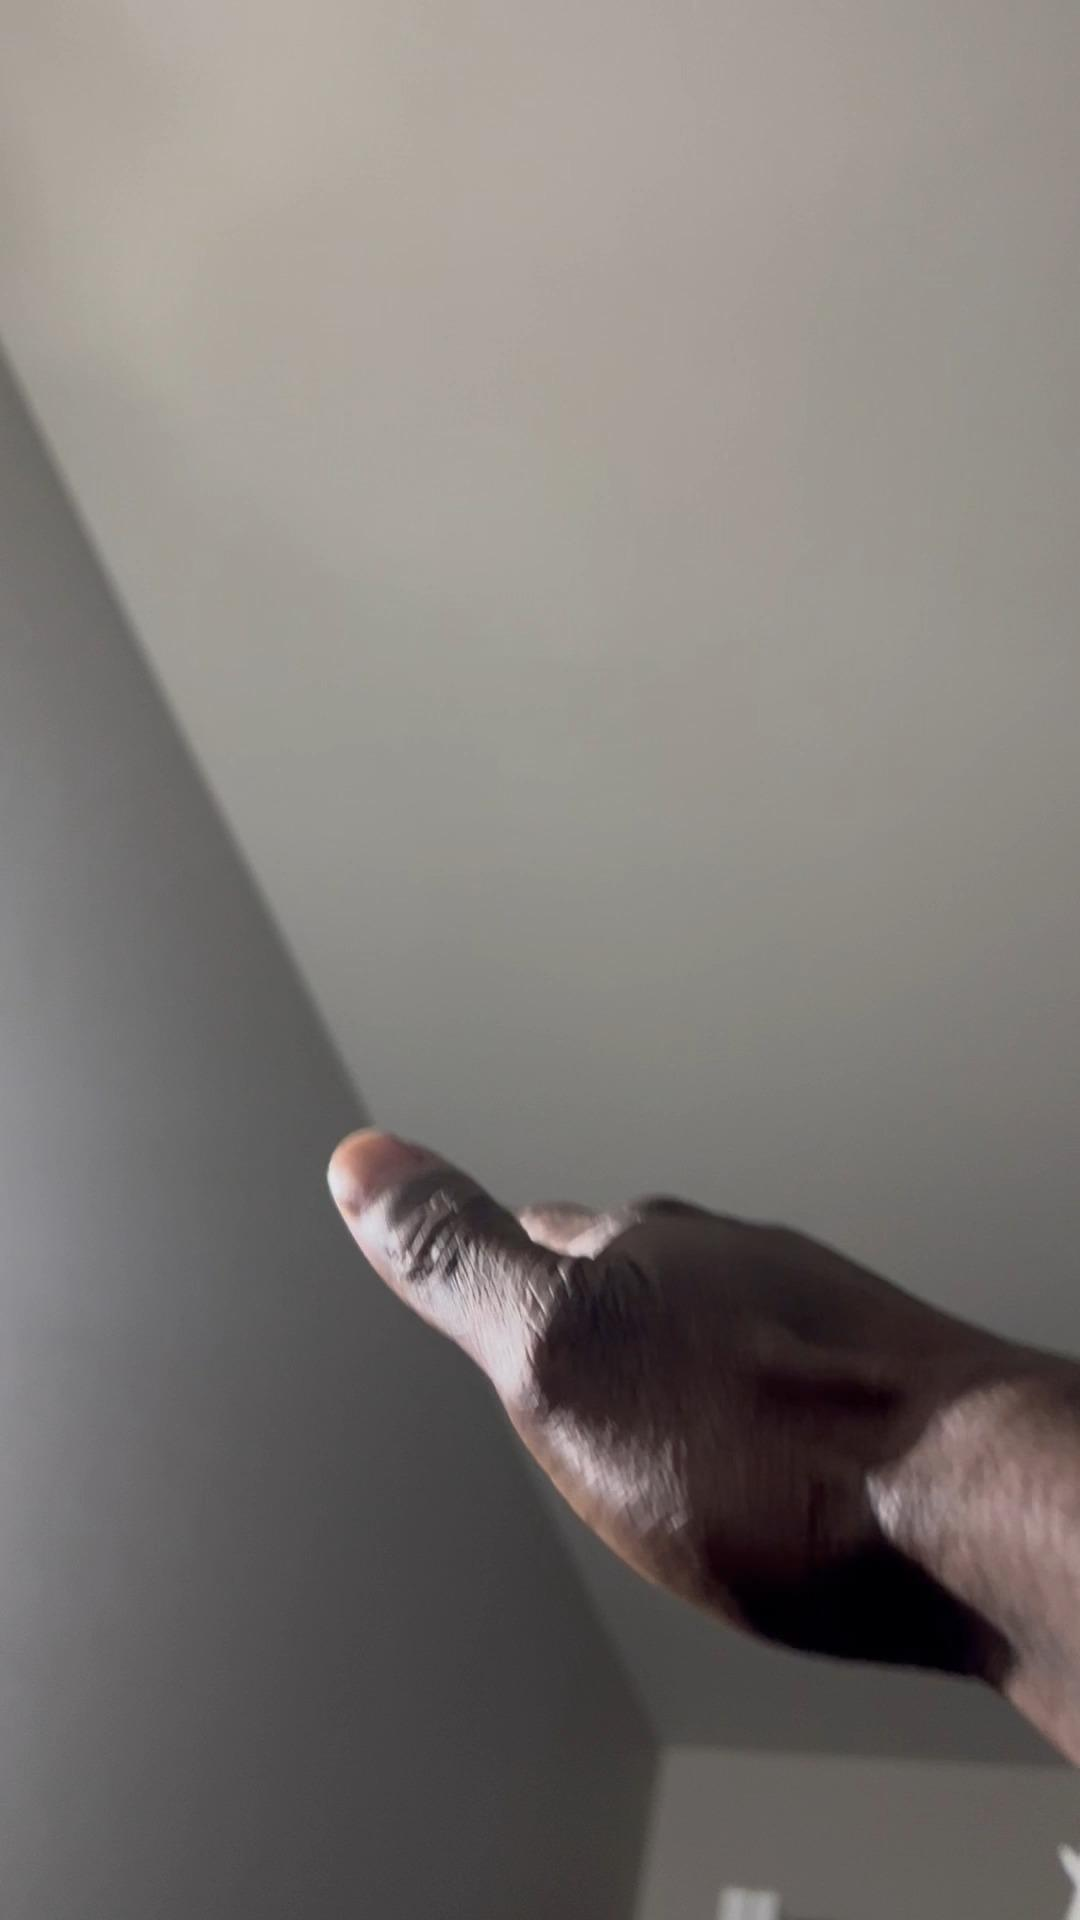Paper: (323, 1126, 1007, 1679)
